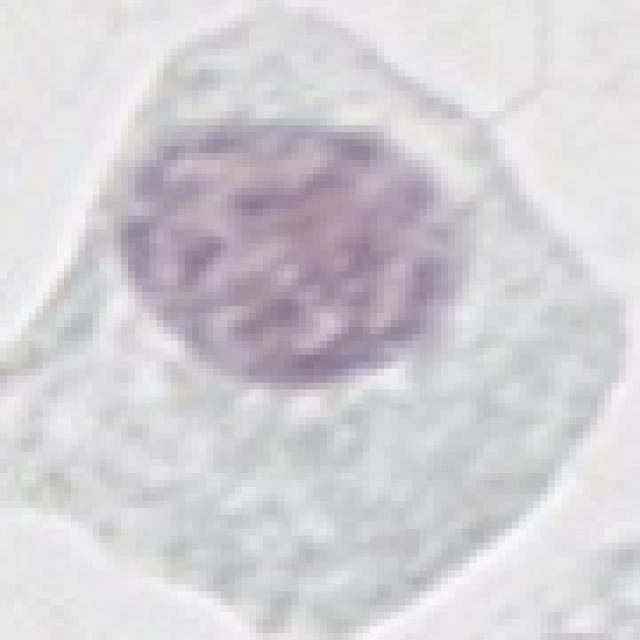nucleus: (67, 71, 498, 432)
